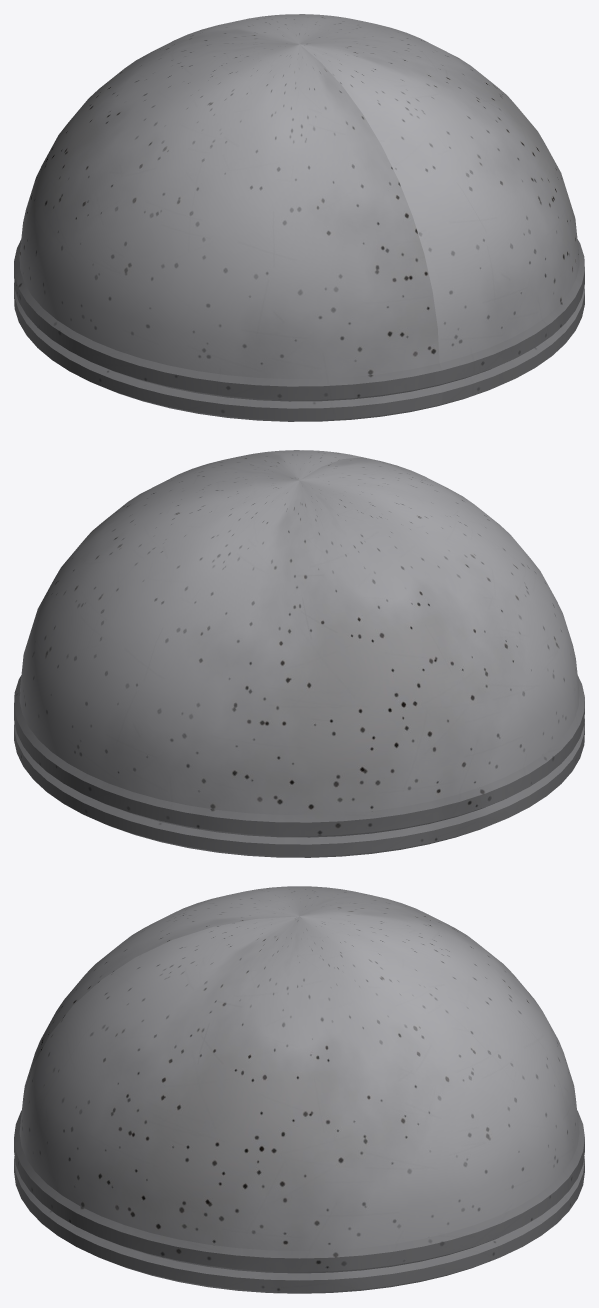
File: capsule_lid.glb
3 views of the same model, one above another, from view 1: azimuth 30°, elevation 25°; view 2: azimuth 150°, elevation 25°; view 3: azimuth 270°, elevation 25° (orthographic).
Parts seen in each view (by area): view 1: Lid; view 2: Lid; view 3: Lid.
Part boxes in pixels (<box>): Lid: <box>14,14,584,421</box>; Lid: <box>14,450,584,857</box>; Lid: <box>14,886,584,1293</box>.
Size of the model in its own units: 0.153 by 0.077 by 0.153.
Materials: 2 (2 with a texture image).
